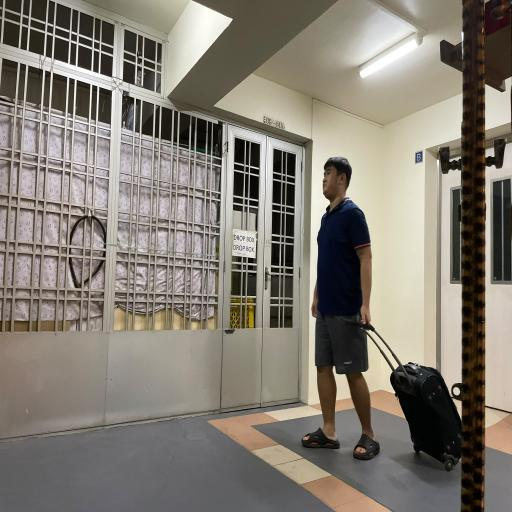person_left: (310, 152, 462, 486)
